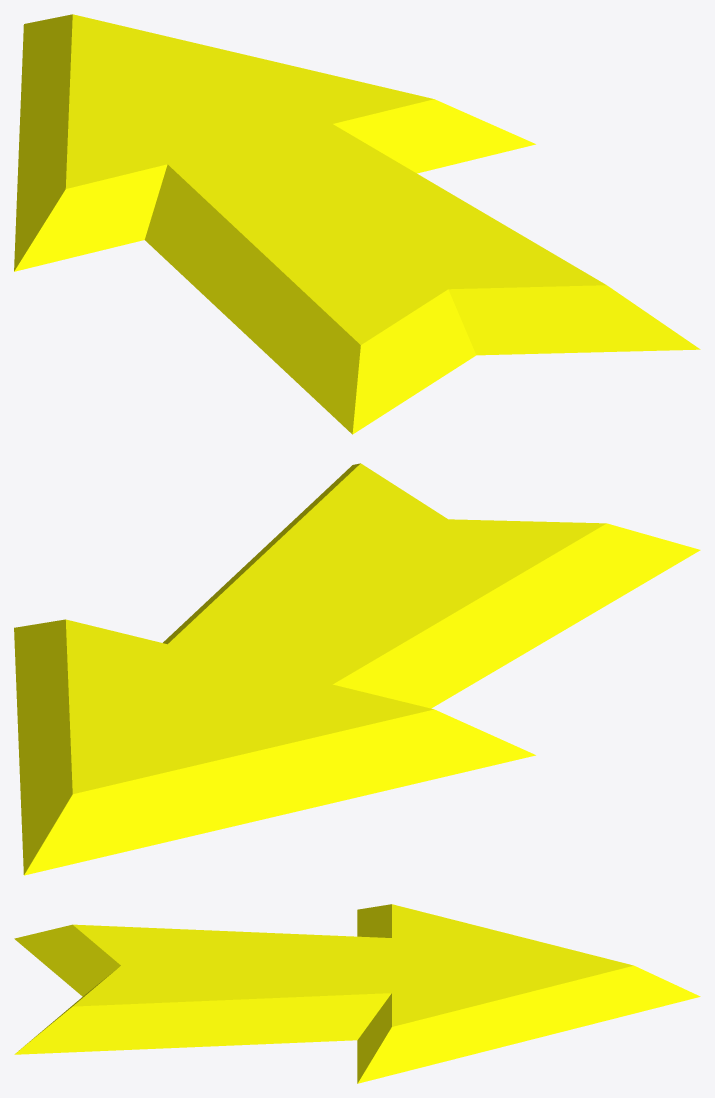
Rendered from Arrow.dae.
3 views of the same model, one above another, from view 1: azimuth 30°, elevation 25°; view 2: azimuth 150°, elevation 25°; view 3: azimuth 270°, elevation 25° (orthographic). The views are drawn at different scales.
Visible parts, largest first — view 1: LWMobj; view 2: LWMobj; view 3: LWMobj.
Boxes of the visible parts, bbox=[...] form: LWMobj: bbox=[14, 14, 700, 434]; LWMobj: bbox=[14, 463, 700, 875]; LWMobj: bbox=[14, 904, 700, 1083].
Size of the model in its own units: 0.8138 by 1.36 by 0.0678.
